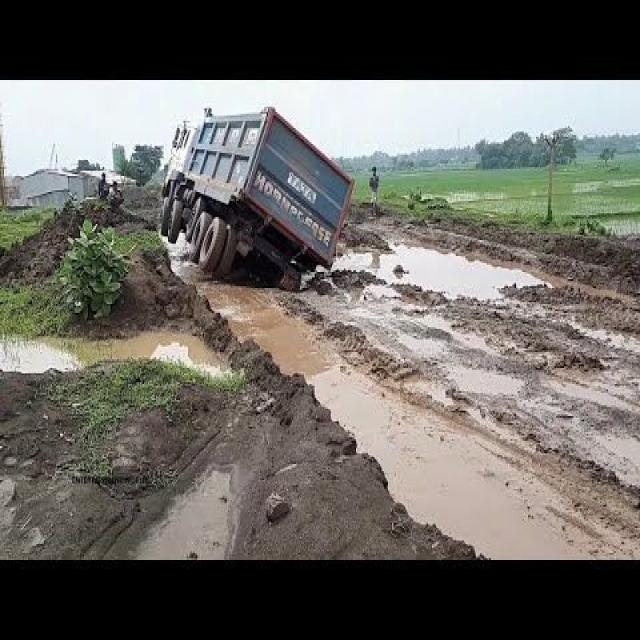accident: (161, 108, 354, 288)
